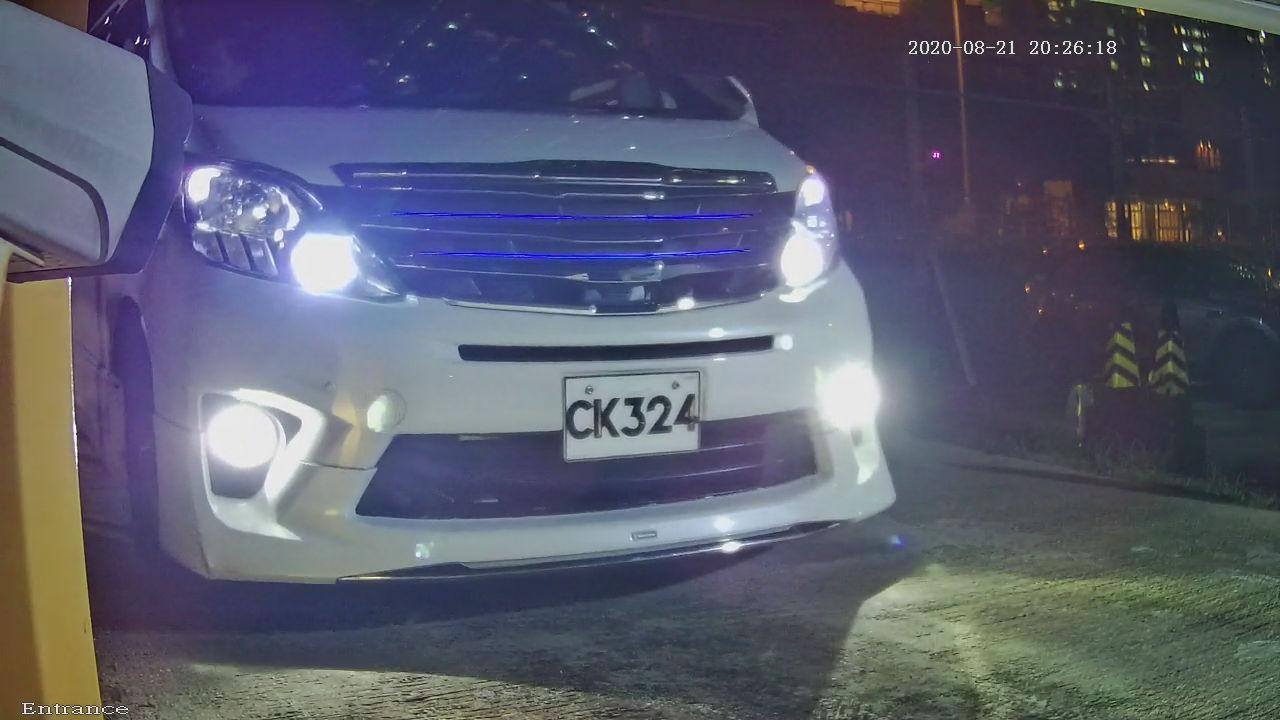Car: (23, 17, 978, 631)
License Plate: (526, 353, 742, 493)
